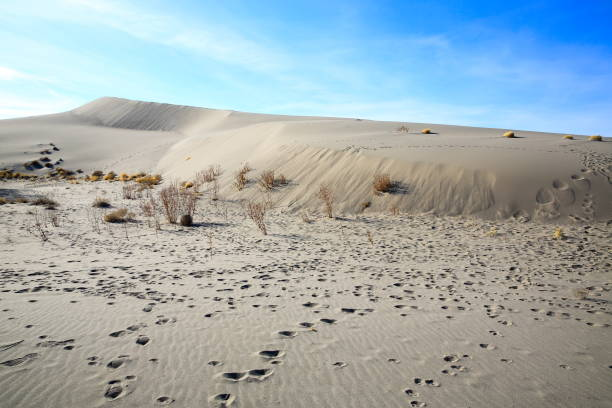human_foot_print: (79, 224, 607, 401), (104, 375, 136, 400), (219, 368, 273, 381), (441, 354, 470, 375), (109, 323, 146, 337), (0, 353, 38, 366), (403, 388, 426, 406), (404, 388, 426, 406), (208, 393, 235, 407), (247, 368, 273, 381), (106, 355, 130, 368), (36, 339, 74, 347), (219, 371, 247, 381), (441, 364, 466, 375), (340, 307, 373, 315), (0, 340, 23, 351), (413, 377, 439, 386), (258, 350, 284, 358), (442, 354, 468, 362), (126, 323, 147, 332), (155, 315, 176, 324), (155, 396, 174, 405), (135, 335, 149, 345), (277, 330, 297, 337), (86, 356, 100, 365), (109, 330, 126, 337), (409, 400, 426, 407), (142, 303, 155, 312), (404, 388, 418, 396), (479, 343, 495, 350), (207, 360, 223, 366), (320, 318, 336, 324), (302, 301, 318, 307), (298, 322, 314, 328), (332, 361, 347, 367), (488, 330, 502, 336), (559, 364, 573, 369), (498, 320, 512, 325), (387, 358, 400, 363), (500, 358, 512, 363)
